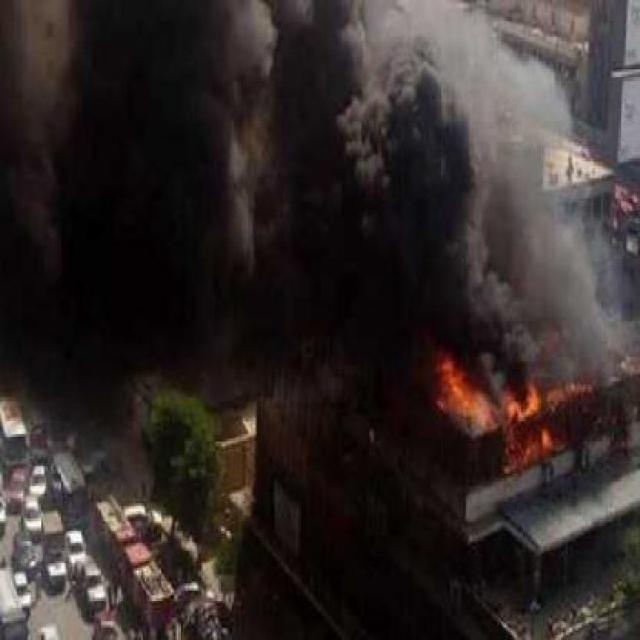Fire: (432, 330, 596, 464)
